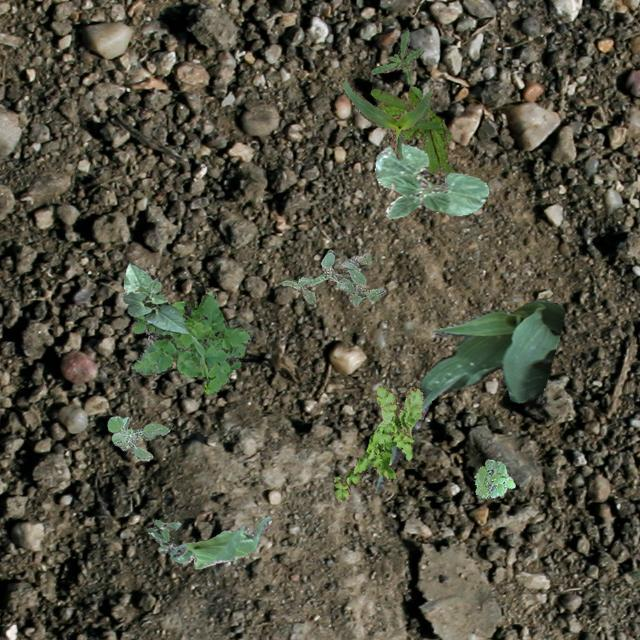crop: (372, 298, 564, 490), (373, 142, 488, 218), (340, 76, 434, 158), (170, 516, 270, 568), (121, 262, 188, 332)
weed: (130, 291, 250, 394), (332, 384, 422, 501), (370, 85, 452, 174), (278, 248, 384, 306), (370, 28, 422, 82), (106, 416, 168, 460), (474, 458, 514, 498), (146, 518, 180, 552)
